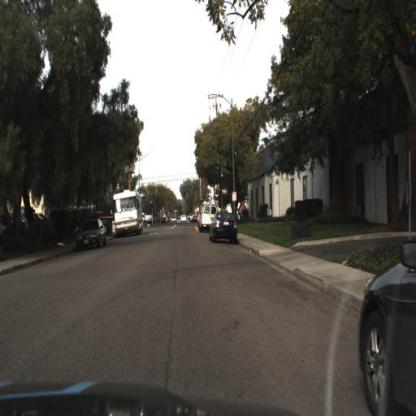car: (355, 235, 415, 415), (72, 217, 108, 254), (74, 215, 107, 248), (208, 208, 238, 243), (198, 202, 216, 229), (179, 211, 189, 229), (167, 214, 177, 226)
trafficLight-Red: (200, 194, 204, 206)
truck: (110, 186, 141, 234)
